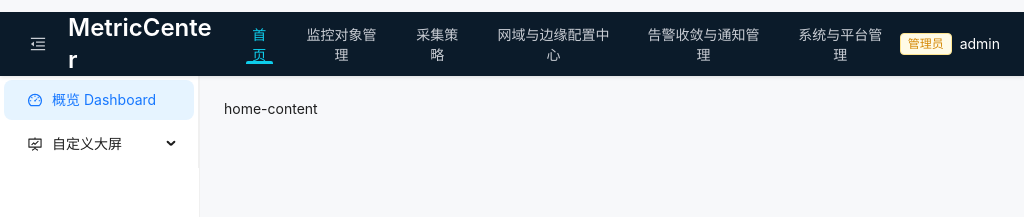
MainLayout › renders the 首页 secondary nav and an empty custom dashboard group
Expected: the text "概览 Dashboard" is shown, [52,91,156,108]
Expected: the text "自定义大屏" is shown, [52,135,122,152]
Step 1. Click the menu item "自定义大屏" → (75, 144), box [28,135,122,152]
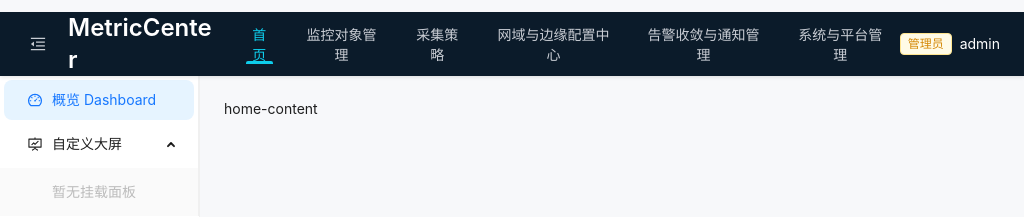
Expected: the text "暂无挂载面板" is shown, [52,183,136,200]
